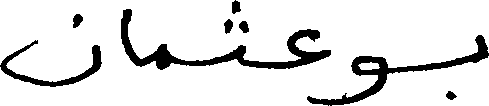ا: (118, 7, 137, 67)
ب: (439, 32, 487, 101)
ث: (219, 0, 247, 66)
ع: (283, 27, 329, 73)
م: (155, 42, 172, 71)
ن: (0, 11, 103, 86)
و: (351, 54, 388, 103)
